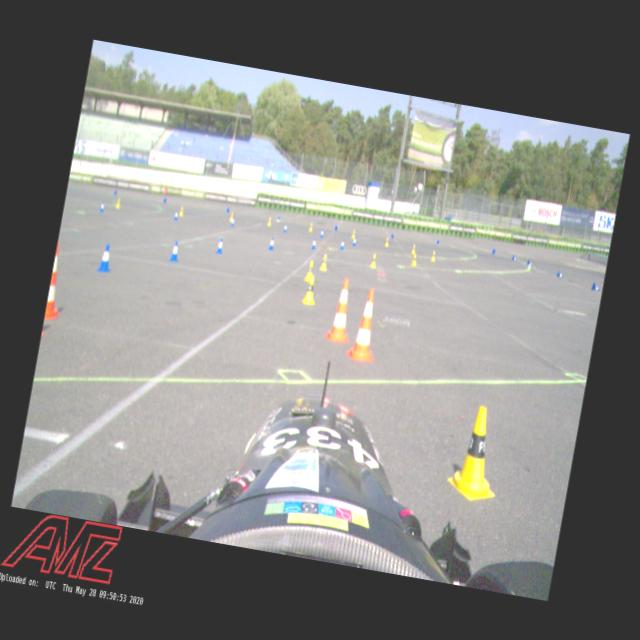blue_cone: (96, 241, 114, 273), (168, 238, 182, 262), (214, 237, 225, 255), (267, 236, 275, 250), (310, 236, 318, 250), (98, 200, 106, 213), (338, 237, 346, 250), (590, 281, 600, 291), (172, 209, 179, 222), (230, 215, 236, 227), (318, 228, 324, 240), (352, 235, 358, 246), (556, 270, 564, 278), (282, 223, 288, 233), (510, 253, 518, 260), (526, 260, 532, 266)
large_orange_cone: (345, 286, 386, 364), (322, 274, 359, 344), (44, 240, 72, 322)
yellow_cone: (444, 402, 508, 504), (300, 273, 320, 307), (303, 258, 316, 282), (318, 253, 328, 271), (368, 252, 378, 268), (410, 252, 418, 266), (429, 248, 436, 262), (114, 197, 121, 210), (228, 212, 235, 224), (409, 243, 416, 255), (178, 205, 185, 216), (308, 222, 314, 232), (350, 229, 356, 239), (384, 236, 389, 246), (267, 217, 272, 226)
